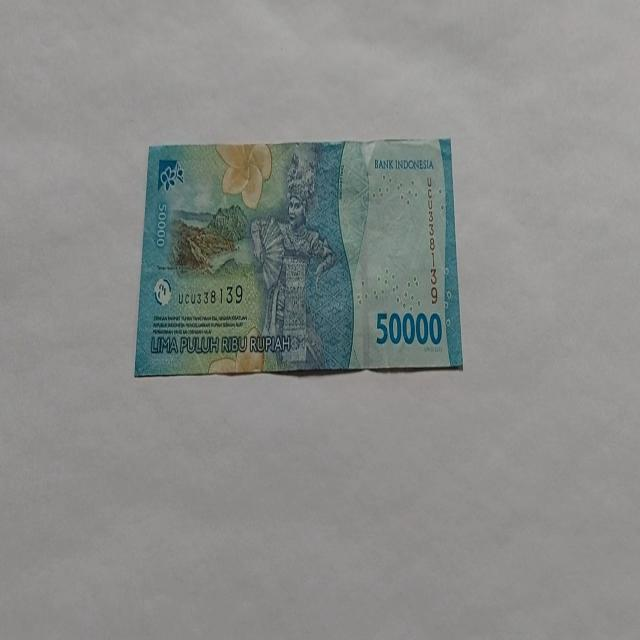lima puluh ribu rupiah: (132, 137, 464, 378)
